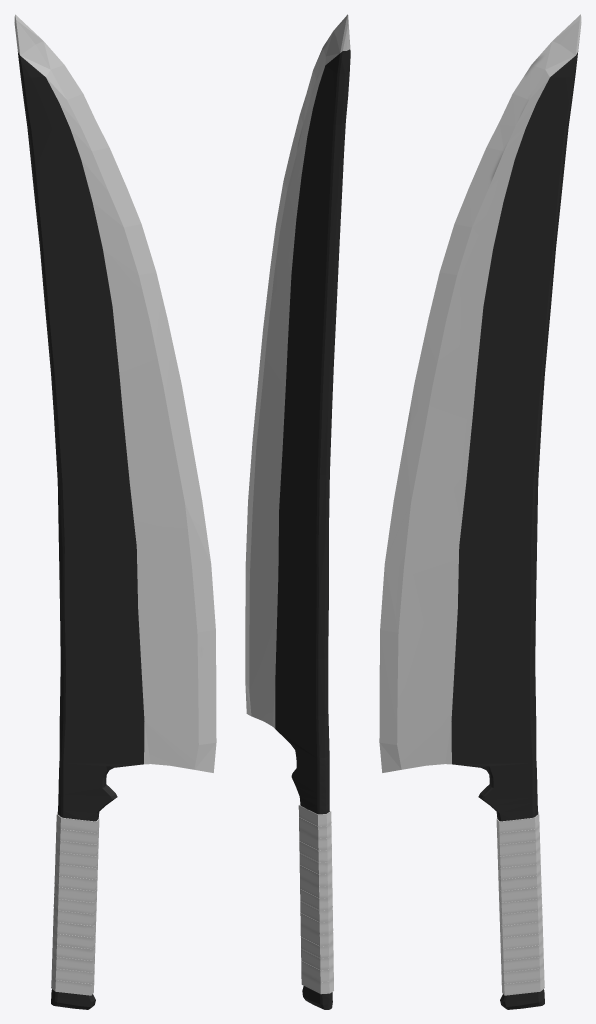
Rendered from bleach1.obj.
The picture shows the model from 3 angles, left to right: view 1: azimuth 90°, elevation 25°; view 2: azimuth 210°, elevation 25°; view 3: azimuth 270°, elevation 25°; orthographic projection.
Parts seen in each view (by area): view 1: Blade; view 2: Blade; view 3: Blade.
Part boxes in pixels (x1=…): Blade: x1=14, y1=14, x2=216, y2=1009; Blade: x1=245, y1=14, x2=350, y2=1009; Blade: x1=379, y1=14, x2=581, y2=1009.
Bounding box in the file's own units: 0.0459 × 2.95 × 0.5428.
